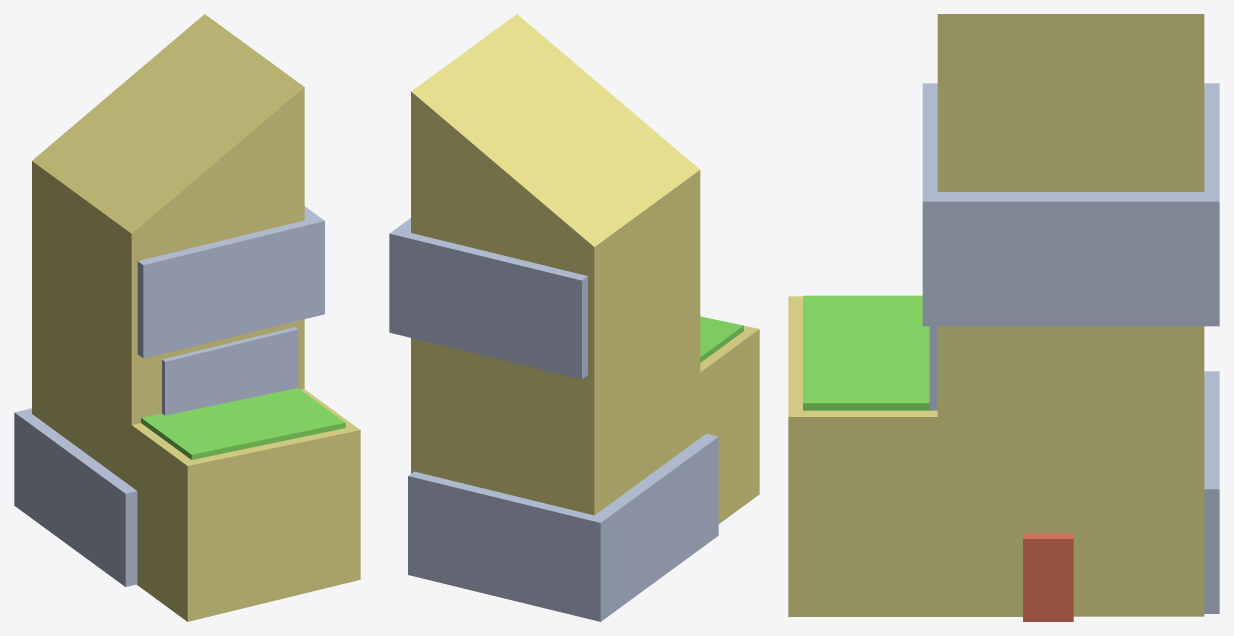
File: BTBuilding1.fbx
The picture shows the model from 3 angles, left to right: view 1: azimuth 30°, elevation 25°; view 2: azimuth 150°, elevation 25°; view 3: azimuth 270°, elevation 25°; orthographic projection. The views are drawn at different scales.
Visible parts, largest first — view 1: Cube; view 2: Cube; view 3: Cube.
Boxes of the visible parts, left/top/right/bottom form: Cube: left=14, top=14, right=360, bottom=621; Cube: left=389, top=14, right=759, bottom=621; Cube: left=788, top=14, right=1219, bottom=621.
Size of the model in its own units: 734 by 1588 by 1030.
